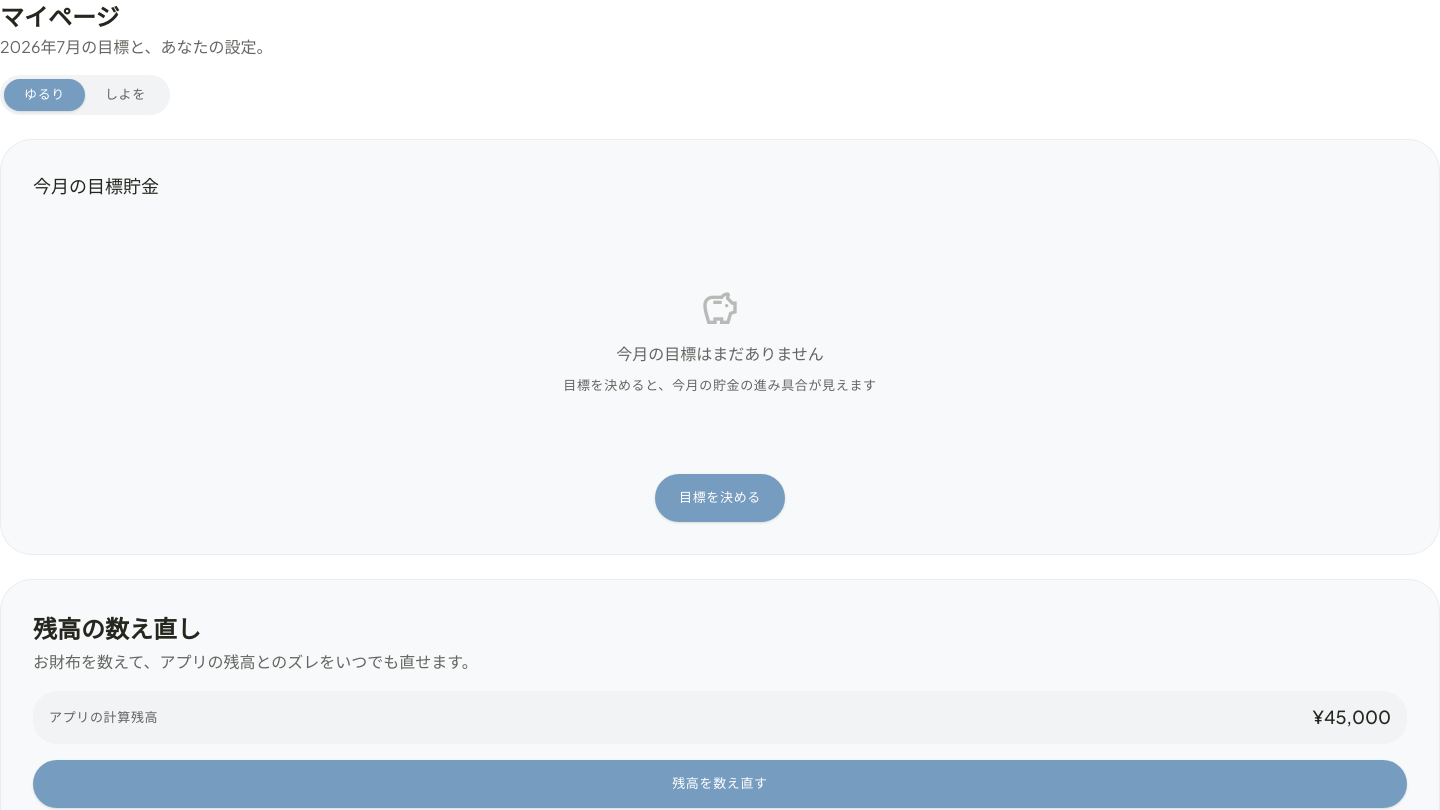
Test: MyPage 統合（目標貯金 + プロフィール） › 相手のタブでは目標を閲覧のみにする
Expected: the text "今月の目標はまだありません" is shown, [616,341,824,366]
Click the radio button labelled "しよを" at (126, 95), box [85,79,166,111]
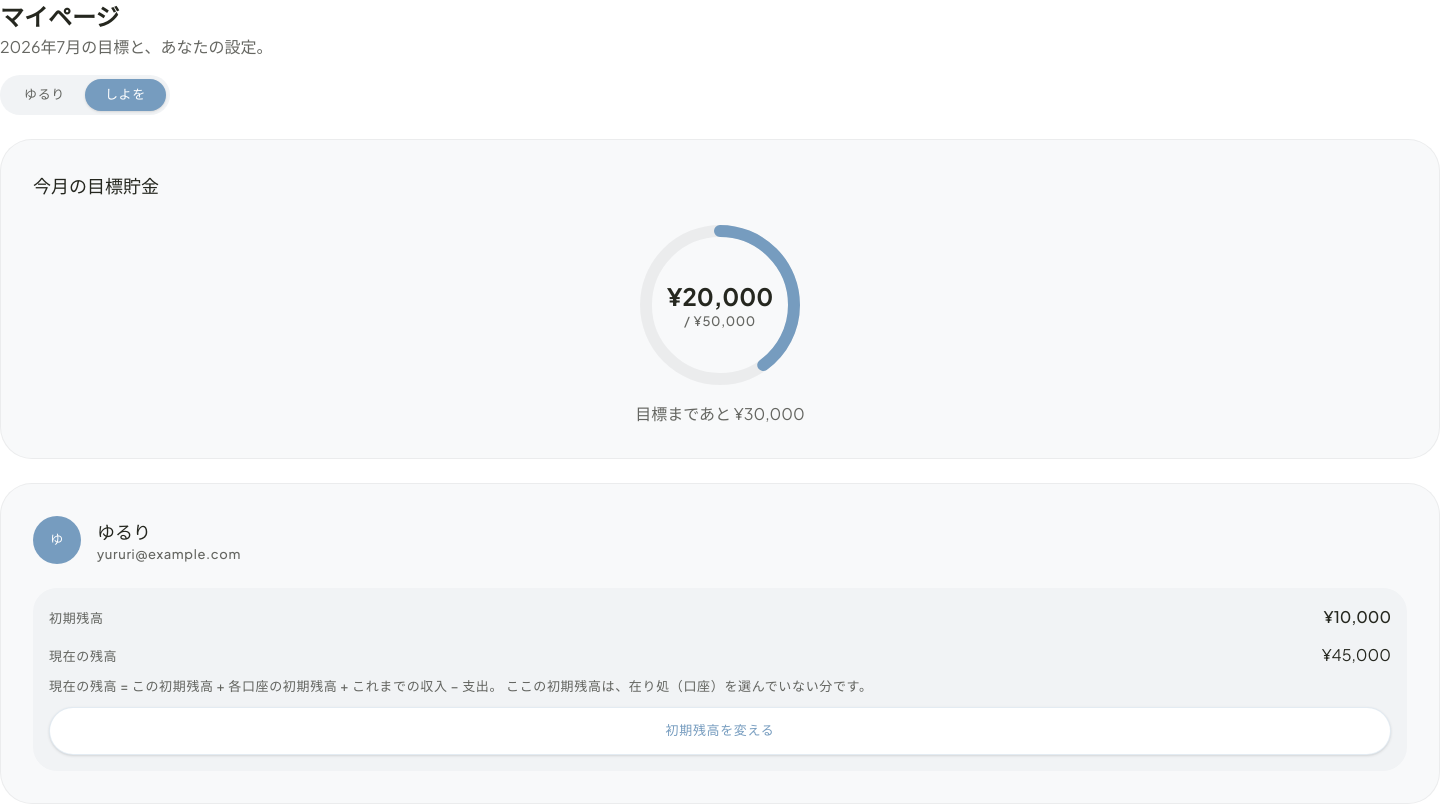
Result: the picture named "目標 ¥50,000 に対して ¥20,000（40%）" is shown at [640,225,800,385]
